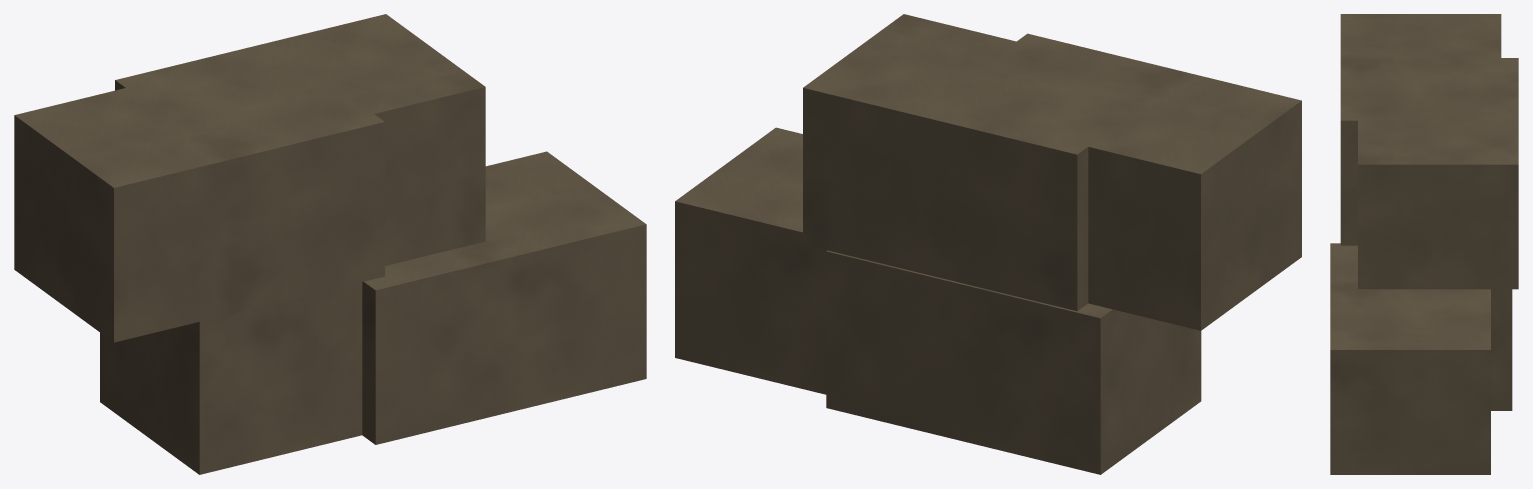
The model's file is B_bales.glb.
The picture shows the model from 3 angles, left to right: view 1: azimuth 30°, elevation 25°; view 2: azimuth 150°, elevation 25°; view 3: azimuth 270°, elevation 25°; orthographic projection. The views are drawn at different scales.
Visible parts, largest first — view 1: B_bales; view 2: B_bales; view 3: B_bales.
Part boxes in pixels (<box>): B_bales: <box>14,14,646,474</box>; B_bales: <box>675,14,1301,474</box>; B_bales: <box>1330,14,1518,474</box>.
Bounding box in the file's own units: 2.14 × 1.22 × 0.8217.
1 material, 1 textured.
